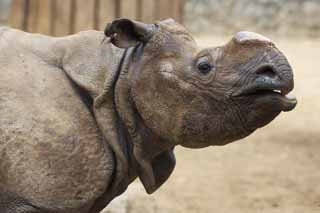rhino: (1, 16, 297, 213)
